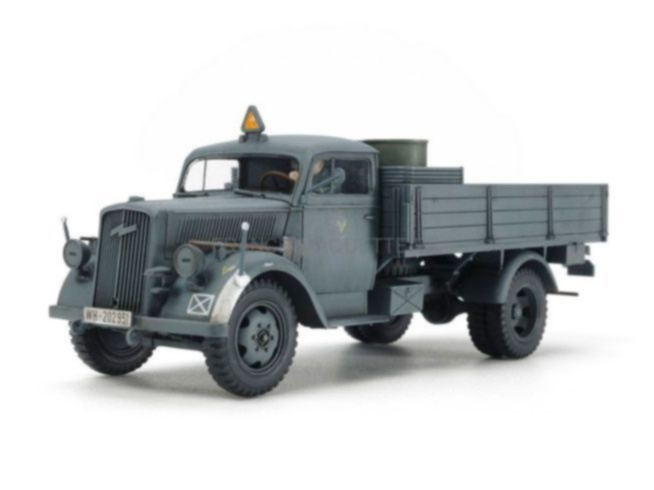license_plate: (82, 307, 136, 328)
